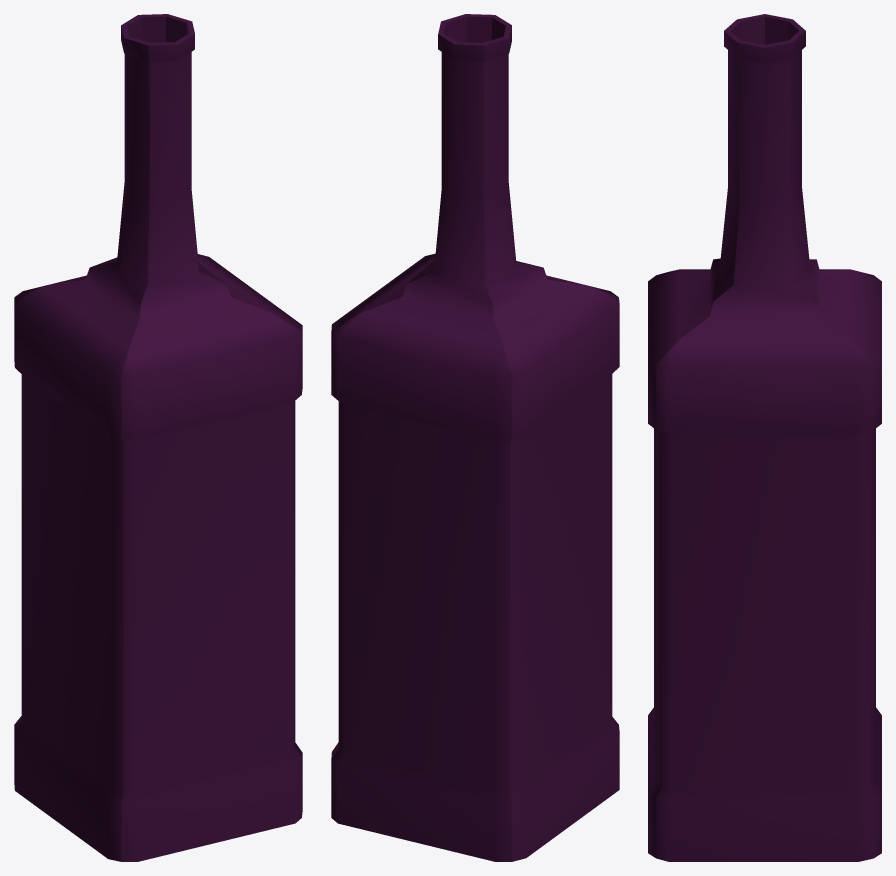
The model's file is ING_Bottle_Rum_v01.fbx.
The picture shows the model from 3 angles, left to right: view 1: azimuth 30°, elevation 25°; view 2: azimuth 150°, elevation 25°; view 3: azimuth 270°, elevation 25°; orthographic projection.
Visible parts, largest first — view 1: Rest_Bar_Set03_RumBottle_01; view 2: Rest_Bar_Set03_RumBottle_01; view 3: Rest_Bar_Set03_RumBottle_01.
Part boxes in pixels (x1,y1,x2,y2): Rest_Bar_Set03_RumBottle_01: [14, 14, 302, 861]; Rest_Bar_Set03_RumBottle_01: [331, 14, 619, 861]; Rest_Bar_Set03_RumBottle_01: [648, 14, 881, 861].
Bounding box in the file's own units: 2.58 × 9.79 × 2.65.
